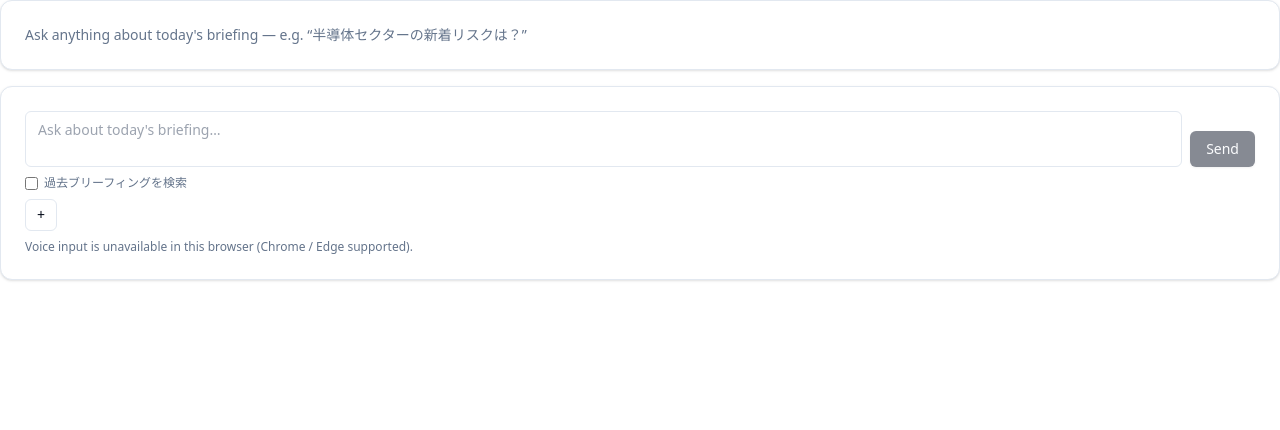
Test case: ChatForm › shows event:error inline and does not retry
Step 1. Type "q" into the text box with test id "chat-input" → (604, 139), box [25, 111, 1182, 167]
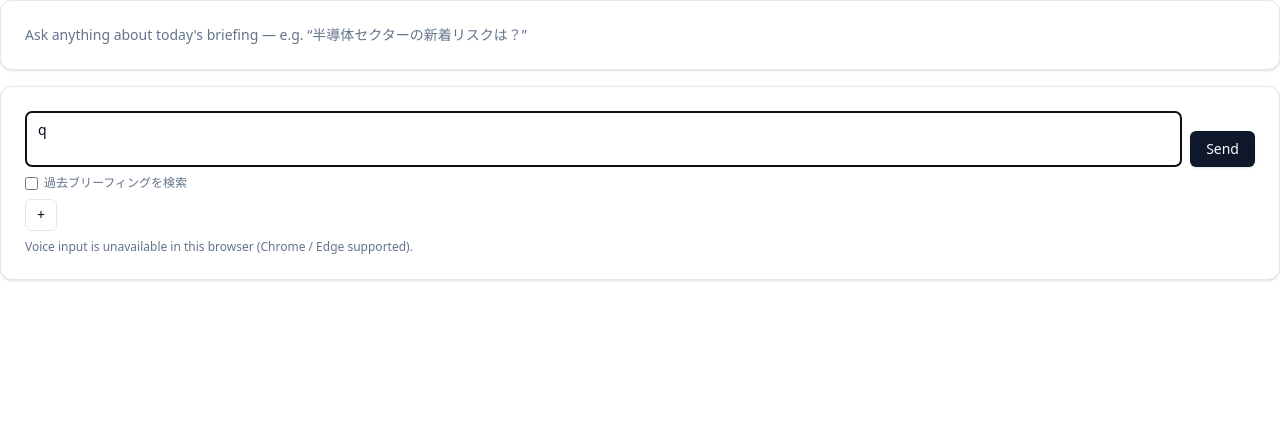
Step 2. Click the button with test id "send-button" → (1223, 149), box [1190, 131, 1255, 167]
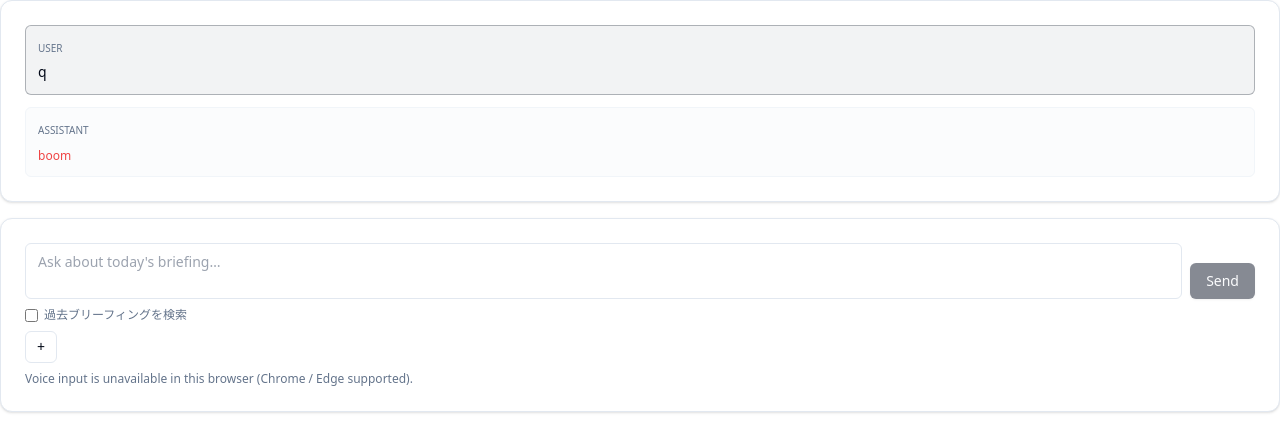
Check: the text with test id "chat-error" reads "boom", box [38, 147, 71, 164]
